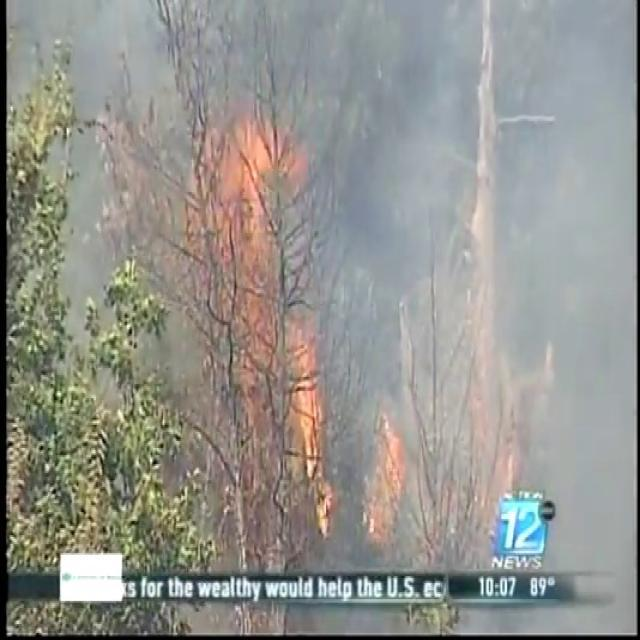Fire: (282, 330, 326, 475)
Smoke: (265, 1, 636, 552)
